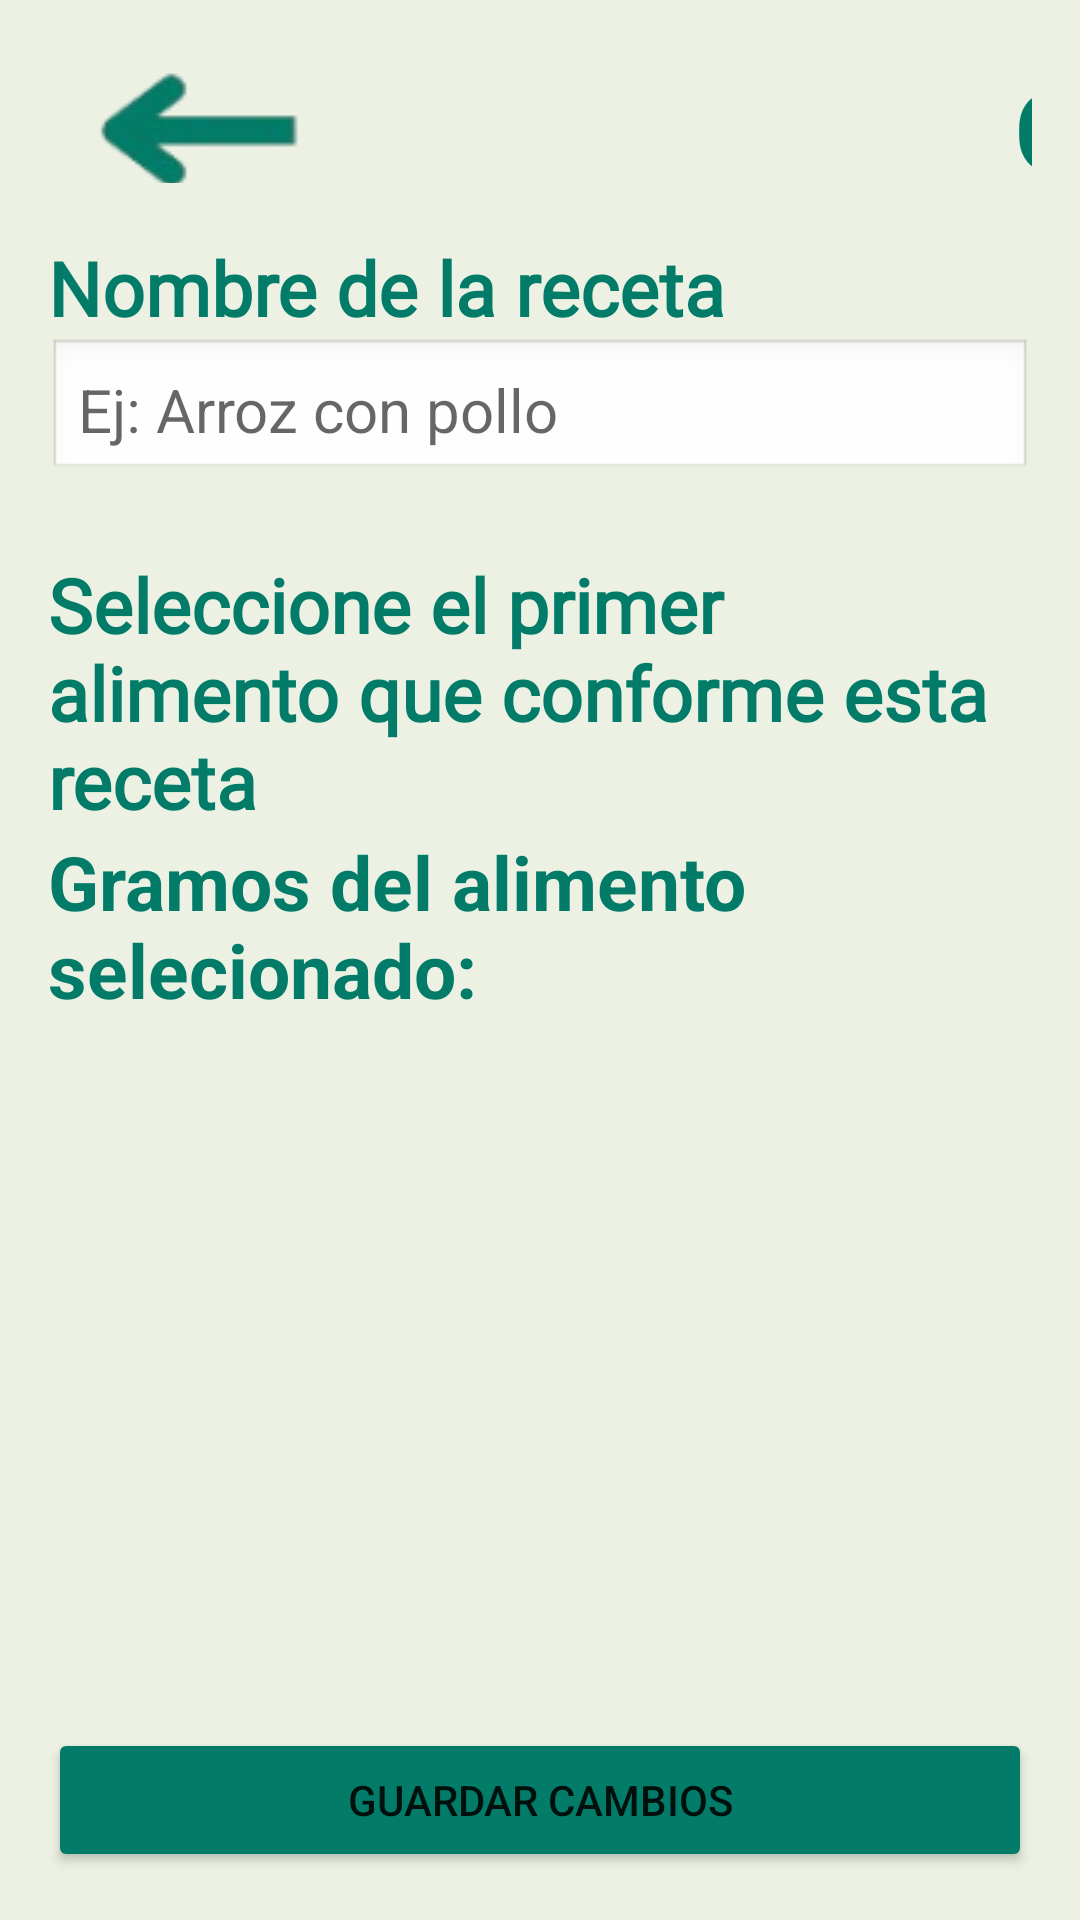

Where to tap for icons on this 1080w x 1920h app screen, as [x,y]:
gobacksinfondo: [199,128]
